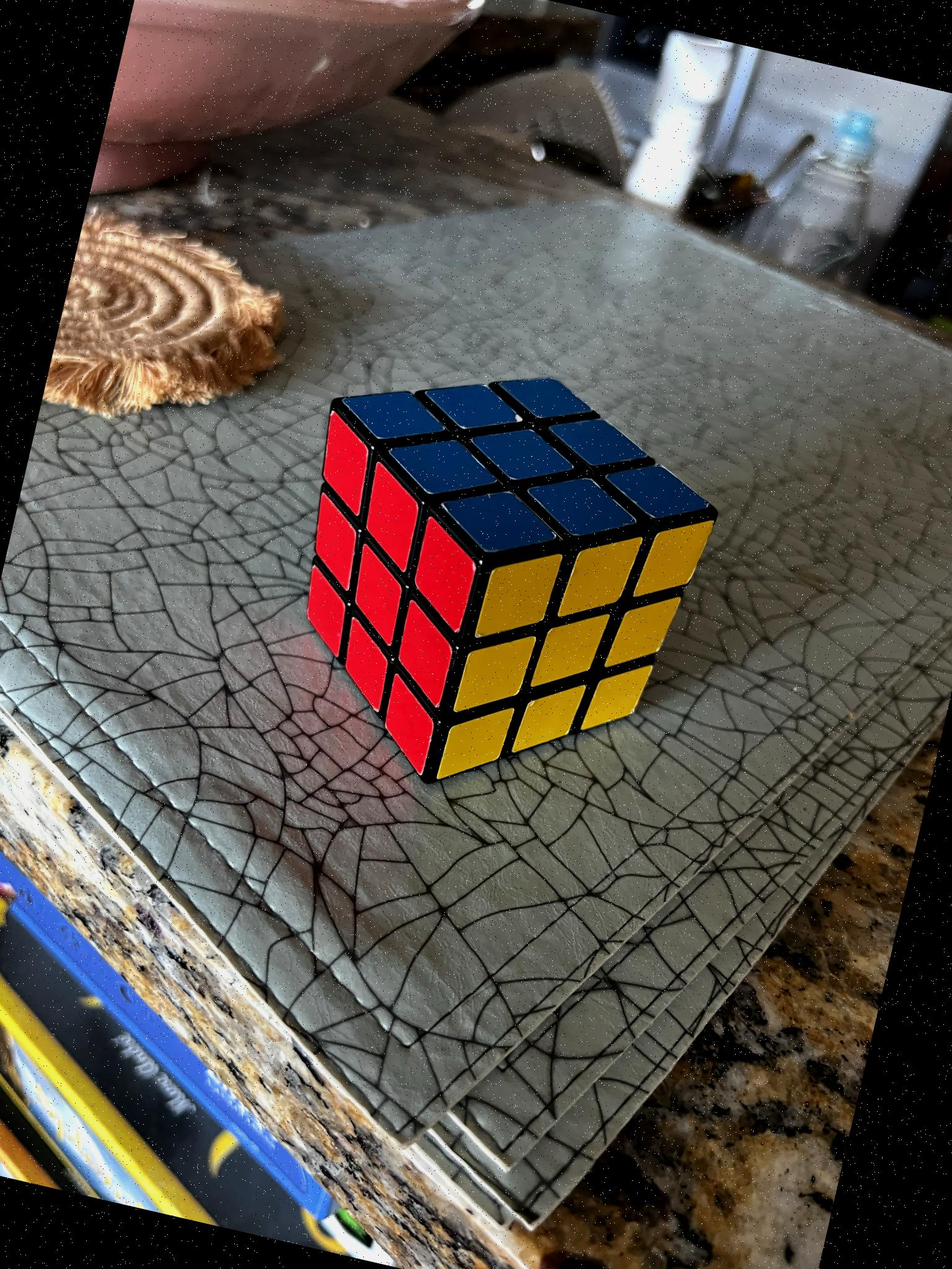rubiks_cube: (306, 377, 713, 779)
